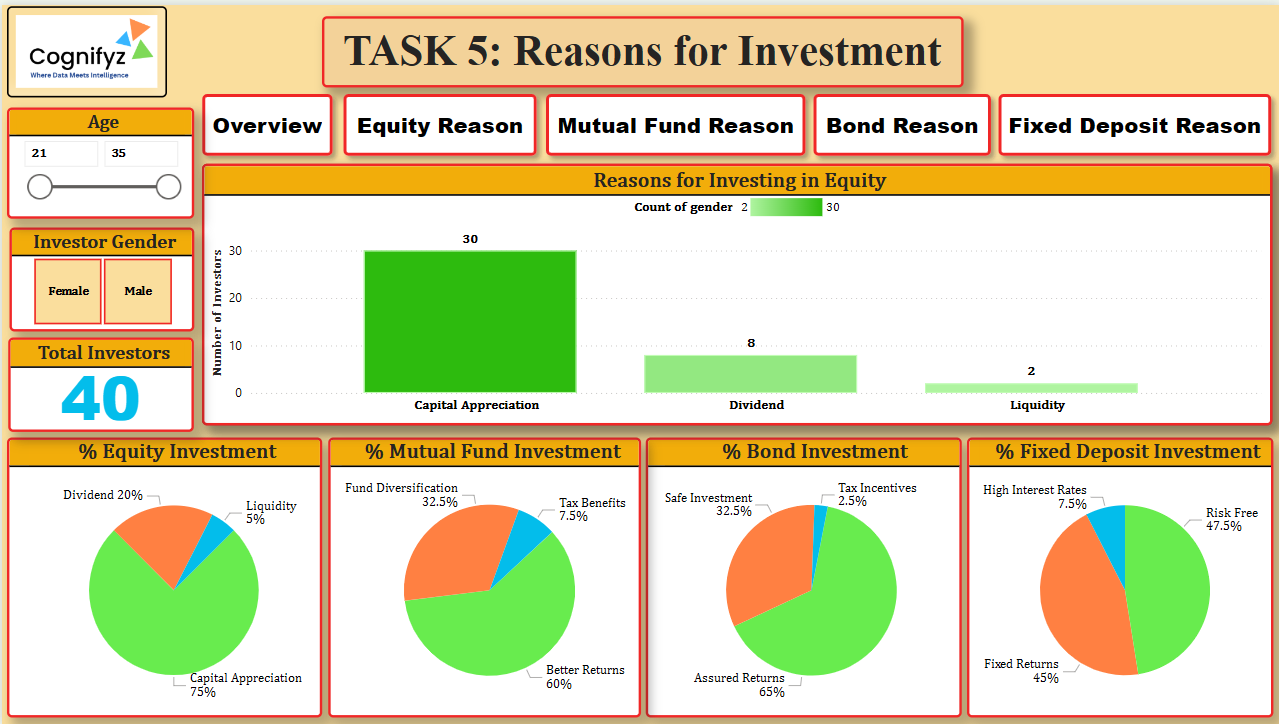

What the dashboard file says about the page in this screenshot:
{"tool":"powerbi","page":{"name":"Task 5","canvas":[1280,720],"ordinal":9},"visuals":[{"type":"image","box":[5,1.2,160,91],"z":0},{"type":"textbox","box":[319.4,11.1,641.4,71.3],"z":1000},{"type":"pieChart","title":"% Equity Investment","fields":{"Category":["Data_set 2.Reason_Equity"],"Y":["CountNonNull(Data_set 2.Reason_Equity)"]},"box":[4.8,433.1,314.9,279.9],"z":2000},{"type":"actionButton","title":"Equity","box":[333,79.6,211.1,79.6],"z":3000},{"type":"actionButton","title":"Overview","box":[191.8,79.6,148.4,79.6],"z":4000},{"type":"actionButton","title":"Mutual Fund","box":[534.5,79.6,277.5,79.6],"z":5000},{"type":"actionButton","title":"Bond","box":[802.3,79.6,195.4,79.6],"z":6000},{"type":"actionButton","title":"FD","box":[988.1,79.6,290.8,79.6],"z":7000},{"type":"pieChart","title":"% Bond Investment","fields":{"Category":["Data_set 2.Reason_Bonds"],"Y":["CountNonNull(Data_set 2.Reason_Bonds)"]},"box":[644.2,433.1,316.1,279.9],"z":8000},{"type":"pieChart","title":"% Fixed Deposit Investment","fields":{"Category":["Data_set 2.Reason_FD"],"Y":["CountNonNull(Data_set 2.Reason_FD)"]},"box":[965.2,433.1,306.4,279.9],"z":9000},{"type":"pieChart","title":"% Mutual Fund Investment","fields":{"Category":["Data_set 2.Reason_Mutual"],"Y":["CountNonNull(Data_set 2.Reason_Mutual)"]},"box":[325.7,433.1,312.5,279.9],"z":10000},{"type":"columnChart","title":"Reasons for Investing in Fixed Deposits","fields":{"Y":["CountNonNull(Data_set 2.gender)"],"Category":["Data_set 2.Reason_FD"]},"box":[200.3,159.3,1070.1,261.8],"z":11000},{"type":"slicer","title":"Investor Gender","fields":{"Values":["Data_set 2.gender"]},"box":[7.2,222,184.6,103.8],"z":15000},{"type":"card","title":"Total Investors","fields":{"Values":["CountNonNull(Data_set 2.gender)"]},"box":[6,333,185.8,94.1],"z":16000},{"type":"slicer","title":"Age","fields":{"Values":["Data_set 2.age"]},"box":[4.8,102.5,187,111],"z":17000},{"type":"clusteredBarChart","title":"Preferred Investment Avenues","fields":{"Y":["CountNonNull(Data_set 2.gender)"],"Category":["Data_set 2.Avenue"]},"box":[200.3,159.3,1070.1,261.8],"z":18000}]}

Visuals, with their boxes in screenshot pixels (x1, y1, x2, y2), scaled from the page's 1280x720 canvas onto the 1279x724 screenshot:
image: region(5, 1, 165, 93)
textbox: region(319, 11, 960, 83)
"% Equity Investment" pieChart: region(5, 436, 319, 717)
"Equity" actionButton: region(333, 80, 544, 160)
"Overview" actionButton: region(192, 80, 340, 160)
"Mutual Fund" actionButton: region(534, 80, 811, 160)
"Bond" actionButton: region(802, 80, 997, 160)
"FD" actionButton: region(987, 80, 1278, 160)
"% Bond Investment" pieChart: region(644, 436, 960, 717)
"% Fixed Deposit Investment" pieChart: region(964, 436, 1271, 717)
"% Mutual Fund Investment" pieChart: region(325, 436, 638, 717)
"Reasons for Investing in Fixed Deposits" columnChart: region(200, 160, 1269, 423)
"Investor Gender" slicer: region(7, 223, 192, 328)
"Total Investors" card: region(6, 335, 192, 429)
"Age" slicer: region(5, 103, 192, 215)
"Preferred Investment Avenues" clusteredBarChart: region(200, 160, 1269, 423)
